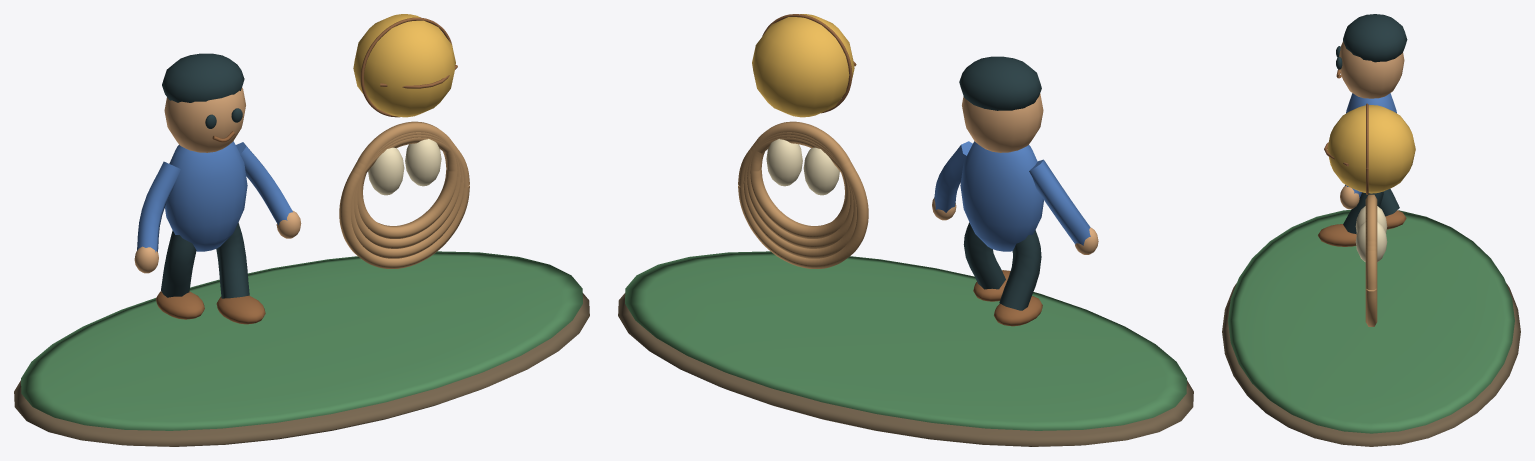
The model's file is complete-second-nurtured-body.glb.
3 renders of one model, left to right at view 1: azimuth 30°, elevation 25°; view 2: azimuth 150°, elevation 25°; view 3: azimuth 270°, elevation 25°, orthographic. The views are drawn at different scales.
Parts seen in each view (by area): view 1: complete-second-nurtured-body_surface_01, complete-second-nurtured-body_surface_00, complete-second-nurtured-body_surface_05, complete-second-nurtured-body_surface_06, complete-second-nurtured-body_surface_08, complete-second-nurtured-body_surface_03, complete-second-nurtured-body_surface_02, complete-second-nurtured-body_surface_04, complete-second-nurtured-body_surface_07; view 2: complete-second-nurtured-body_surface_01, complete-second-nurtured-body_surface_00, complete-second-nurtured-body_surface_05, complete-second-nurtured-body_surface_06, complete-second-nurtured-body_surface_08, complete-second-nurtured-body_surface_03, complete-second-nurtured-body_surface_02, complete-second-nurtured-body_surface_07, complete-second-nurtured-body_surface_04; view 3: complete-second-nurtured-body_surface_01, complete-second-nurtured-body_surface_08, complete-second-nurtured-body_surface_00, complete-second-nurtured-body_surface_03, complete-second-nurtured-body_surface_02, complete-second-nurtured-body_surface_06, complete-second-nurtured-body_surface_04, complete-second-nurtured-body_surface_07, complete-second-nurtured-body_surface_05.
Part boxes in pixels (x1,y1,x2,y2): complete-second-nurtured-body_surface_01: (21,251,582,430); complete-second-nurtured-body_surface_00: (14,293,589,446); complete-second-nurtured-body_surface_05: (137,141,292,252); complete-second-nurtured-body_surface_06: (339,121,469,268); complete-second-nurtured-body_surface_08: (353,14,455,117); complete-second-nurtured-body_surface_03: (161,53,249,298); complete-second-nurtured-body_surface_02: (134,87,301,273); complete-second-nurtured-body_surface_04: (156,17,457,324); complete-second-nurtured-body_surface_07: (368,139,441,195); complete-second-nurtured-body_surface_01: (625,251,1186,430); complete-second-nurtured-body_surface_00: (618,293,1193,446); complete-second-nurtured-body_surface_05: (934,141,1090,251); complete-second-nurtured-body_surface_06: (738,121,868,268); complete-second-nurtured-body_surface_08: (752,14,854,117); complete-second-nurtured-body_surface_03: (959,56,1041,310); complete-second-nurtured-body_surface_02: (932,93,1098,254); complete-second-nurtured-body_surface_07: (766,139,839,195); complete-second-nurtured-body_surface_04: (762,14,1042,326); complete-second-nurtured-body_surface_01: (1228,210,1514,433); complete-second-nurtured-body_surface_08: (1327,105,1415,193); complete-second-nurtured-body_surface_00: (1222,283,1520,446); complete-second-nurtured-body_surface_03: (1336,14,1407,234); complete-second-nurtured-body_surface_02: (1339,41,1404,209); complete-second-nurtured-body_surface_06: (1365,194,1377,326); complete-second-nurtured-body_surface_04: (1318,69,1406,246); complete-second-nurtured-body_surface_07: (1355,206,1387,261); complete-second-nurtured-body_surface_05: (1344,93,1396,198).
Bounding box in the file's own units: 4.56 × 2.64 × 2.5.
